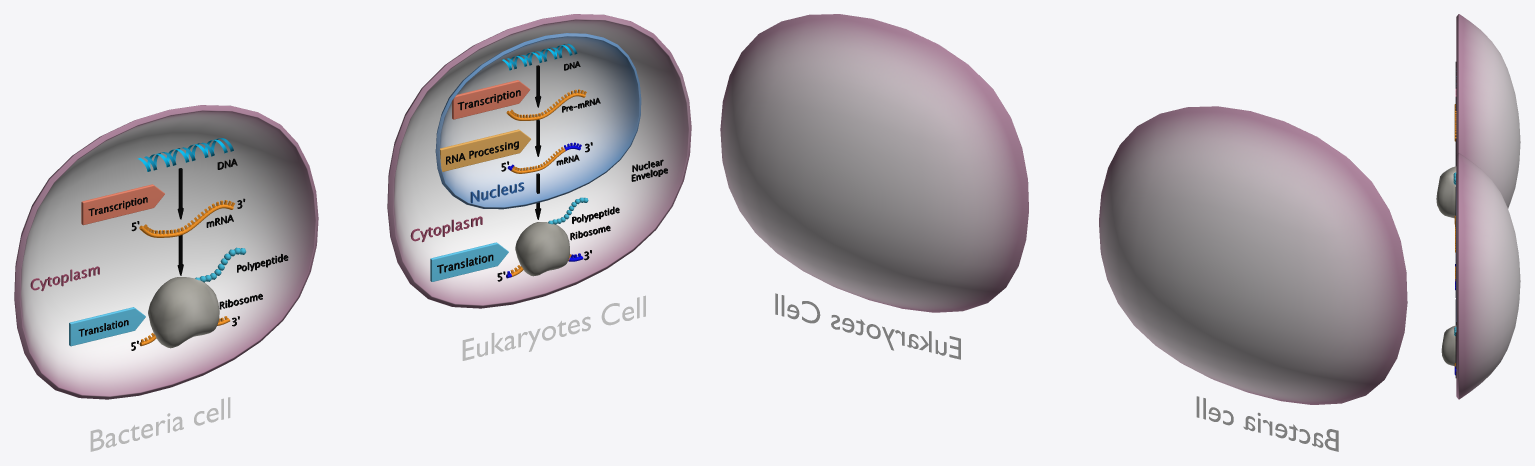
Rendered from prokaryotes-eukaryotes.glb.
3 views of the same model, side by side, from view 1: azimuth 30°, elevation 25°; view 2: azimuth 150°, elevation 25°; view 3: azimuth 270°, elevation 25° (orthographic). The views are drawn at different scales.
Visible parts, largest first — view 1: pCube66, polySurface84, Text; view 2: pCube66, Text; view 3: pCube66, polySurface84.
Part boxes in pixels (x1,y1,x2,y2): pCube66: (14,14,691,399); polySurface84: (30,61,667,350); Text: (90,295,645,451); pCube66: (720,14,1407,404); Text: (775,293,1338,451); pCube66: (1436,14,1520,399); polySurface84: (1455,62,1456,377).
Size of the model in its own units: 10.01 by 4.6 by 1.41.
3 materials, 2 textured.
